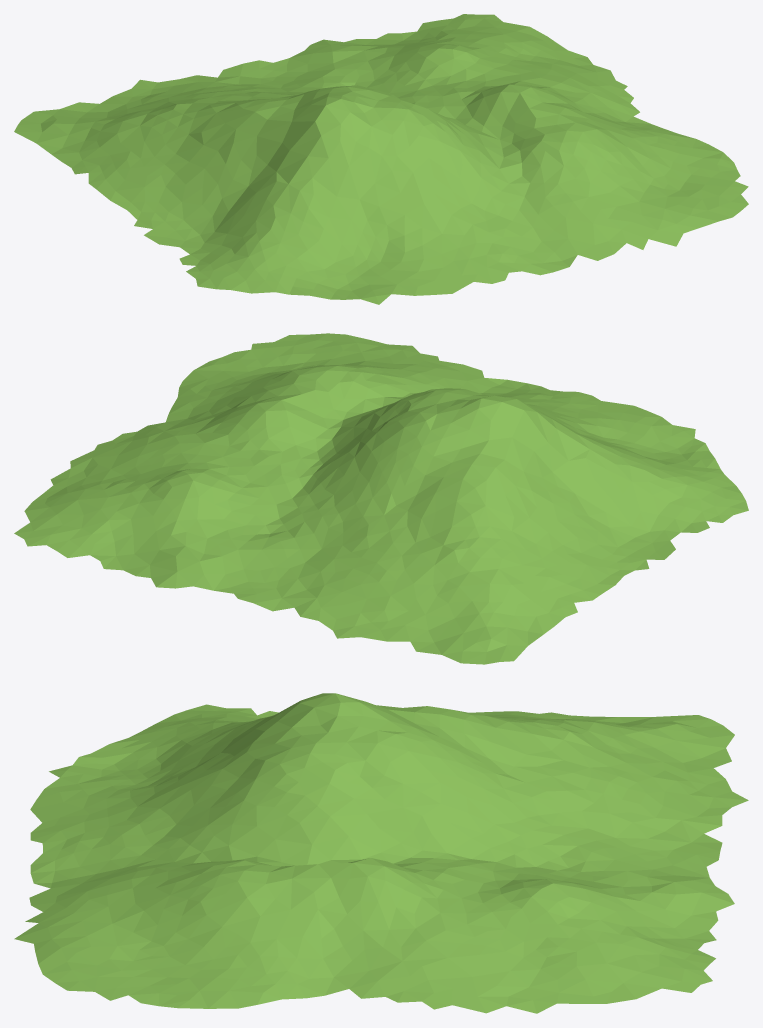
Rendered from MT_Mountain_L_a_16_LOD.fbx.
The picture shows the model from 3 angles, top to bottom: view 1: azimuth 30°, elevation 25°; view 2: azimuth 150°, elevation 25°; view 3: azimuth 270°, elevation 25°; orthographic projection. The views are drawn at different scales.
Visible parts, largest first — view 1: MT_Mountain_L_a_16_LOD0; view 2: MT_Mountain_L_a_16_LOD0; view 3: MT_Mountain_L_a_16_LOD0.
Part boxes in pixels (x1,y1,x2,y2): MT_Mountain_L_a_16_LOD0: (14,14,748,304); MT_Mountain_L_a_16_LOD0: (14,333,748,664); MT_Mountain_L_a_16_LOD0: (14,693,748,1013).
Size of what is drawn, in the model's own units: 9411 by 1712 by 9372.
